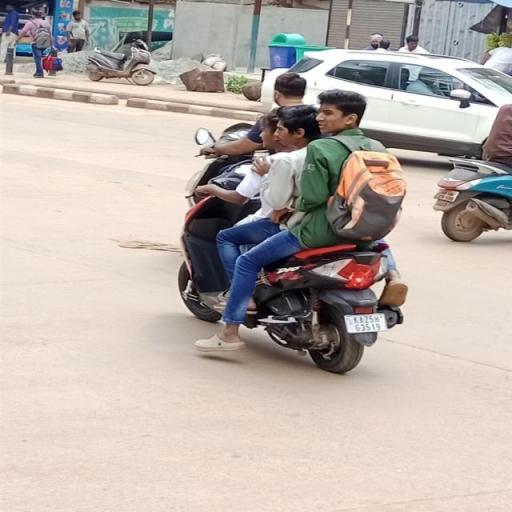tripple riding: (191, 80, 411, 246)
